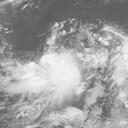cyclone: (33, 51, 84, 103)
